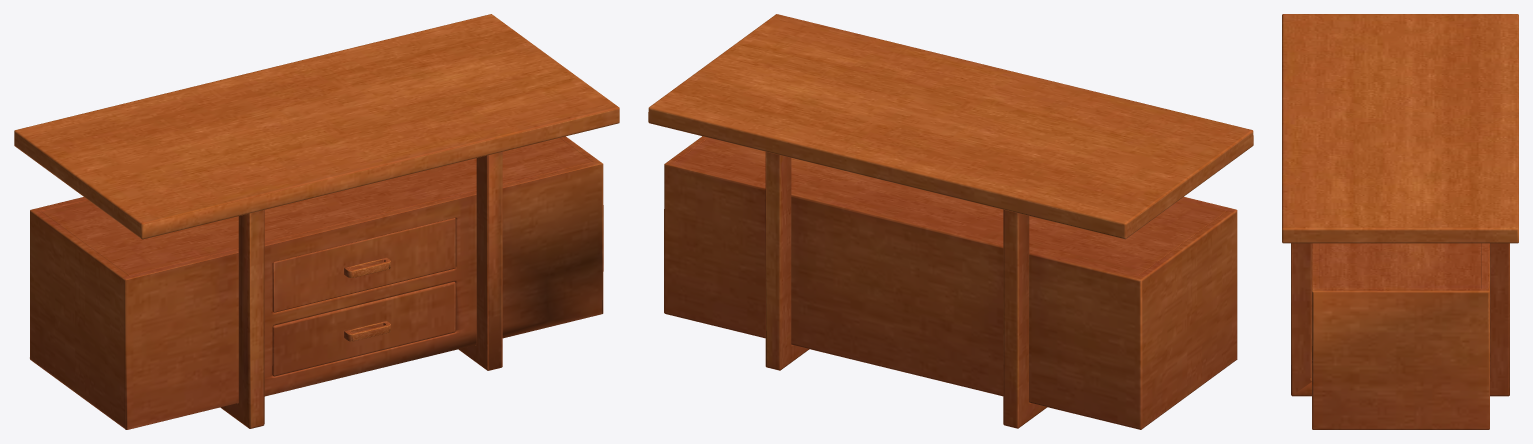
3 views of the same model, side by side, from view 1: azimuth 30°, elevation 25°; view 2: azimuth 150°, elevation 25°; view 3: azimuth 270°, elevation 25° (orthographic). The views are drawn at different scales.
Visible parts, largest first — view 1: Coffee Table 02; view 2: Coffee Table 02; view 3: Coffee Table 02.
Part boxes in pixels (bbox=[...]): Coffee Table 02: bbox=[14, 14, 619, 429]; Coffee Table 02: bbox=[648, 14, 1253, 429]; Coffee Table 02: bbox=[1282, 14, 1518, 429].
Bounding box in the file's own units: 1.18 × 0.5601 × 0.5506.
1 material, 1 textured.
